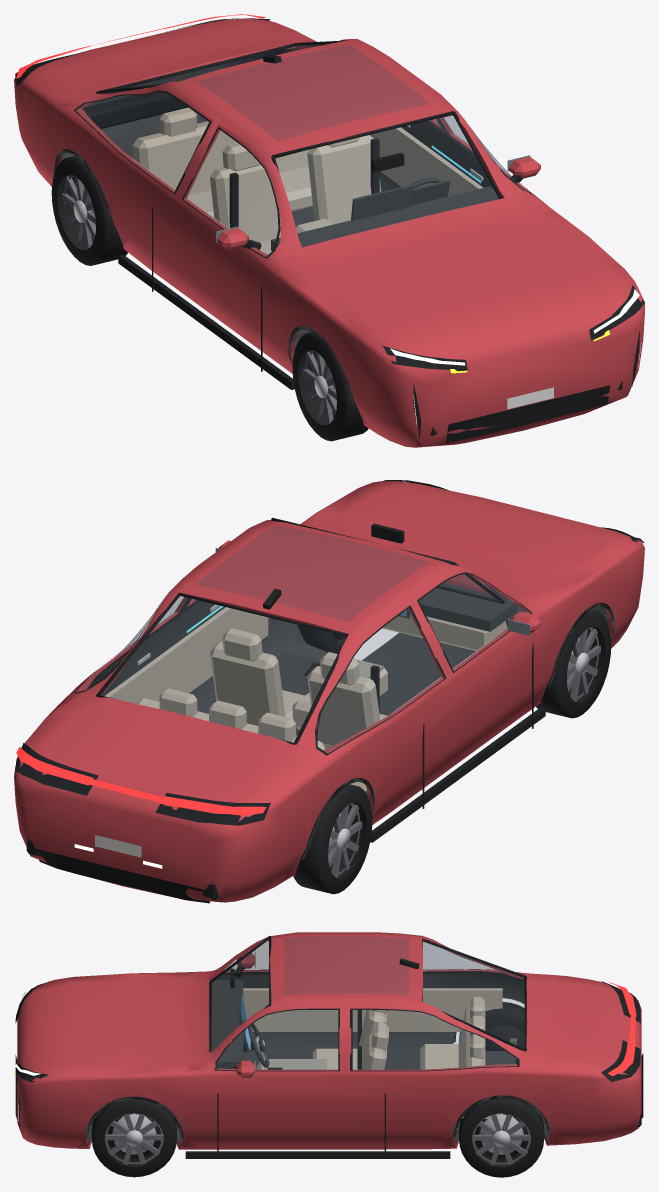
The model's file is byd-seal-08.glb.
3 renders of one model, top to bottom at view 1: azimuth 30°, elevation 25°; view 2: azimuth 150°, elevation 25°; view 3: azimuth 270°, elevation 25°, orthographic. The views are drawn at different scales.
Visible parts, largest first — view 1: Body, Surface_CarRoot_Glass, Interior_CarRoot_InteriorLeather, Surface_CarRoot_BlackTrim, Interior_CarRoot_InteriorDark, Surface_WheelRearR_Tyre, Surface_WheelFrontR_Tyre, Interior_CarRoot_BlackTrim, Surface_WheelFrontR_Rim, Surface_WheelRearR_Rim, Surface_CarRoot_Paint, Surface_CarRoot_Cladding (+1 smaller); view 2: Body, Surface_CarRoot_Glass, Interior_CarRoot_InteriorLeather, Surface_CarRoot_BlackTrim, Interior_CarRoot_InteriorDark, Surface_WheelRearR_Tyre, Surface_WheelFrontR_Tyre, Surface_CarRoot_Taillight, Surface_WheelRearR_Rim, Surface_WheelFrontR_Rim, Surface_CarRoot_Cladding, Surface_WheelFrontL_Tyre (+1 smaller); view 3: Body, Surface_CarRoot_Glass, Interior_CarRoot_InteriorLeather, Surface_CarRoot_BlackTrim, Interior_CarRoot_InteriorDark, Surface_WheelRearL_Tyre, Surface_WheelFrontL_Tyre, Surface_WheelRearR_Tyre, Surface_WheelRearL_Rim, Surface_WheelFrontL_Rim, Surface_CarRoot_Cladding, Surface_CarRoot_Taillight (+5 smaller).
Boxes of the visible parts, left/top/right/bottom form: Body: left=14, top=18, right=644, bottom=447; Surface_CarRoot_Glass: left=76, top=44, right=526, bottom=256; Interior_CarRoot_InteriorLeather: left=130, top=107, right=483, bottom=254; Surface_CarRoot_BlackTrim: left=15, top=18, right=644, bottom=443; Interior_CarRoot_InteriorDark: left=271, top=180, right=498, bottom=339; Surface_WheelRearR_Tyre: left=51, top=155, right=127, bottom=265; Surface_WheelFrontR_Tyre: left=292, top=331, right=368, bottom=441; Interior_CarRoot_BlackTrim: left=229, top=138, right=404, bottom=227; Surface_WheelFrontR_Rim: left=302, top=350, right=336, bottom=424; Surface_WheelRearR_Rim: left=62, top=175, right=95, bottom=249; Surface_CarRoot_Paint: left=217, top=156, right=540, bottom=250; Surface_CarRoot_Cladding: left=54, top=149, right=356, bottom=408; Body: left=14, top=480, right=644, bottom=902; Surface_CarRoot_Glass: left=77, top=525, right=529, bottom=752; Interior_CarRoot_InteriorLeather: left=104, top=607, right=507, bottom=791; Surface_CarRoot_BlackTrim: left=15, top=480, right=644, bottom=903; Interior_CarRoot_InteriorDark: left=202, top=583, right=517, bottom=798; Surface_WheelRearR_Tyre: left=293, top=783, right=372, bottom=894; Surface_WheelFrontR_Tyre: left=536, top=608, right=611, bottom=718; Surface_CarRoot_Taillight: left=16, top=747, right=266, bottom=815; Surface_WheelRearR_Rim: left=328, top=803, right=362, bottom=877; Surface_WheelFrontR_Rim: left=567, top=627, right=600, bottom=701; Surface_CarRoot_Cladding: left=301, top=602, right=614, bottom=860; Surface_WheelFrontL_Tyre: left=297, top=624, right=346, bottom=653; Body: left=17, top=932, right=641, bottom=1149; Surface_CarRoot_Glass: left=212, top=937, right=524, bottom=1070; Interior_CarRoot_InteriorLeather: left=243, top=988, right=502, bottom=1124; Surface_CarRoot_BlackTrim: left=15, top=936, right=643, bottom=1158; Interior_CarRoot_InteriorDark: left=209, top=980, right=515, bottom=1134; Surface_WheelRearL_Tyre: left=459, top=1098, right=544, bottom=1177; Surface_WheelFrontL_Tyre: left=91, top=1099, right=176, bottom=1177; Surface_WheelRearR_Tyre: left=459, top=1002, right=524, bottom=1063; Surface_WheelRearL_Rim: left=472, top=1114, right=531, bottom=1164; Surface_WheelFrontL_Rim: left=104, top=1113, right=163, bottom=1164; Surface_CarRoot_Cladding: left=85, top=999, right=550, bottom=1137; Surface_CarRoot_Taillight: left=607, top=982, right=636, bottom=1076.
Size of the model in its own units: 2.32 by 1.54 by 5.21.
